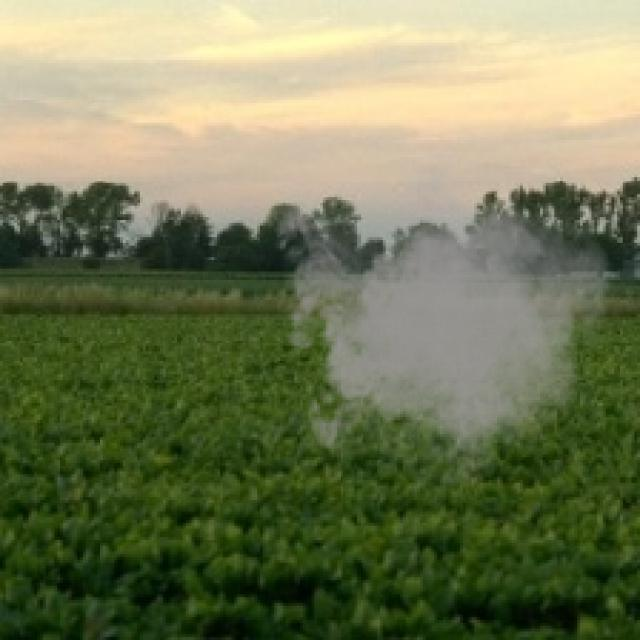smoke: (266, 148, 617, 503)
